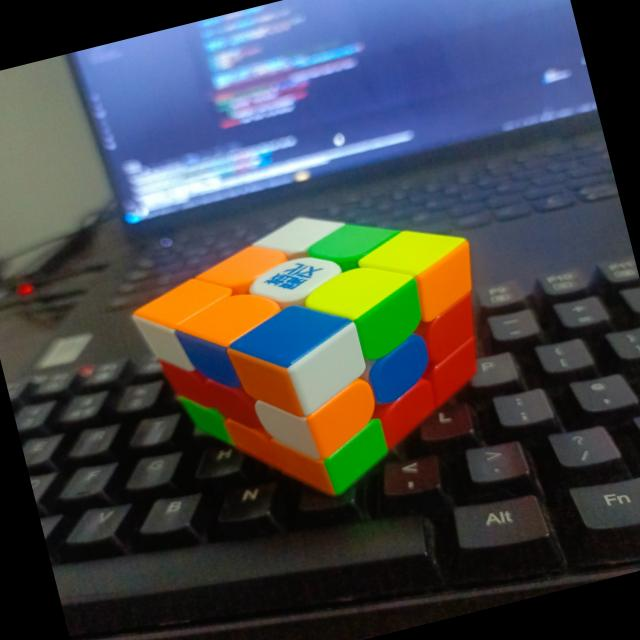rubik: (116, 175, 522, 533)
